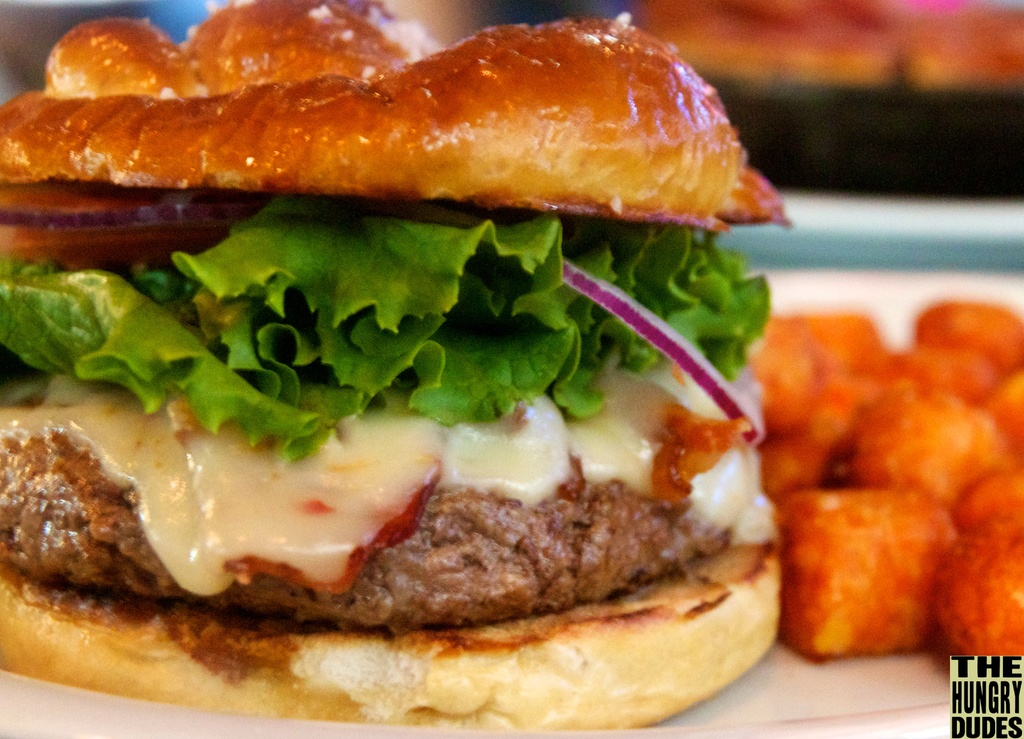Hamburger: (0, 0, 794, 732)
